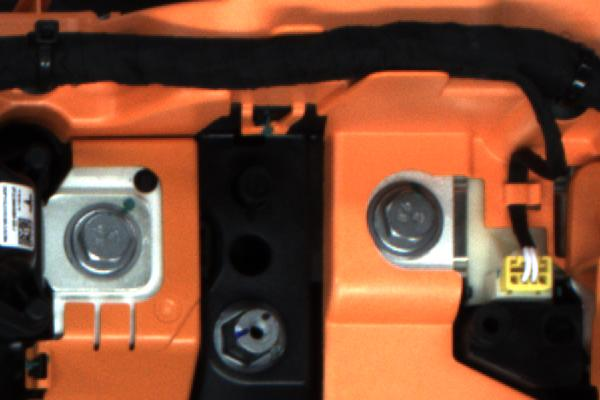nut_b: (363, 173, 455, 261), (58, 201, 149, 284)
